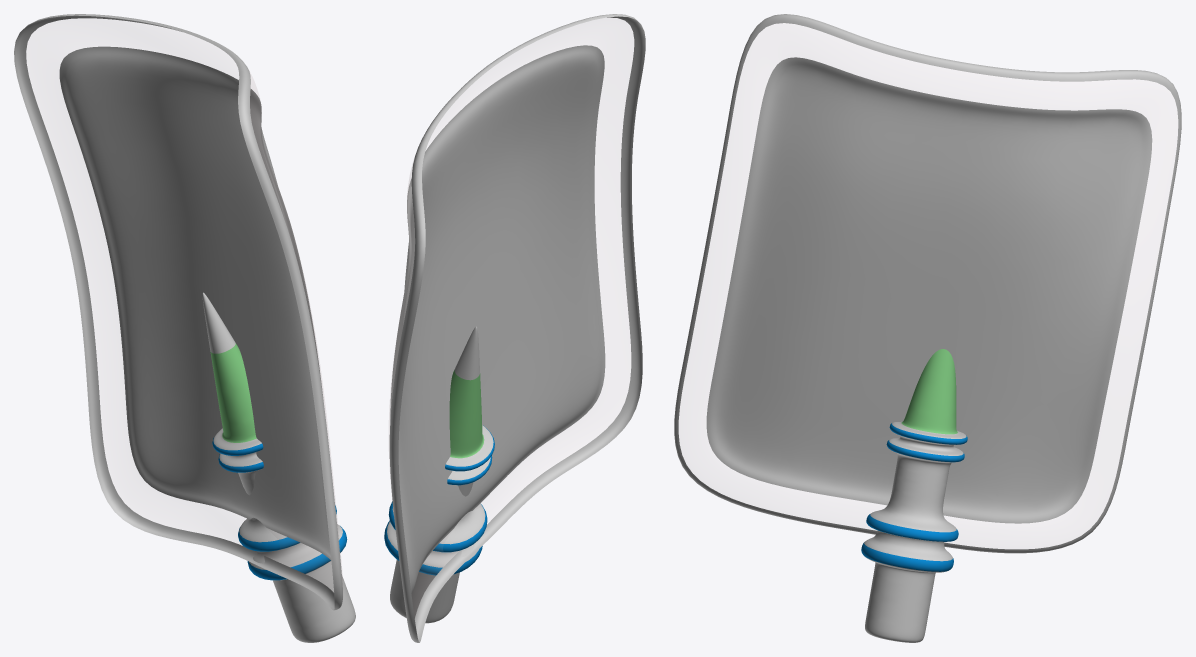
Rendered from patch_infuus.fbx.
The picture shows the model from 3 angles, left to right: view 1: azimuth 30°, elevation 25°; view 2: azimuth 150°, elevation 25°; view 3: azimuth 270°, elevation 25°; orthographic projection. The views are drawn at different scales.
Visible parts, largest first — view 1: infuus_1; view 2: infuus_1; view 3: infuus_1.
Boxes of the visible parts, <box> form: infuus_1: <box>14,14,355,642</box>; infuus_1: <box>384,14,645,642</box>; infuus_1: <box>674,14,1181,642</box>.
Size of the model in its own units: 3.04 by 9.73 by 7.89.
